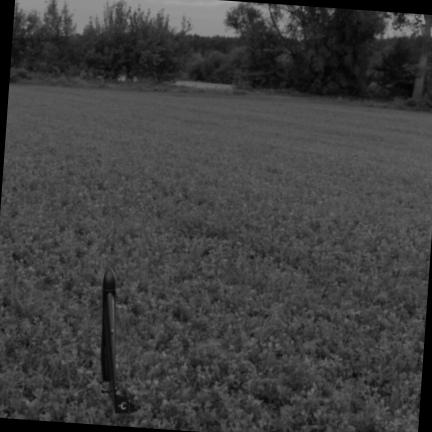Shahed: (100, 267, 132, 413)
